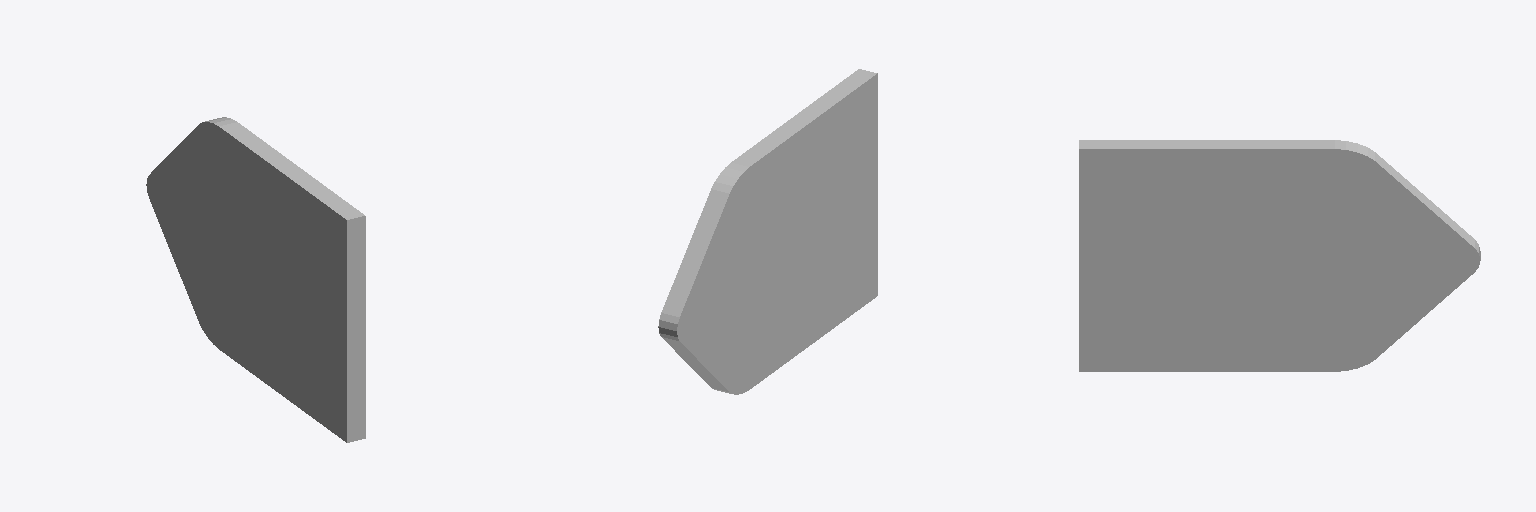
The model's file is Red flag.obj.
3 views of the same model, side by side, from view 1: azimuth 30°, elevation 25°; view 2: azimuth 150°, elevation 25°; view 3: azimuth 270°, elevation 25° (orthographic).
Parts seen in each view (by area): view 1: Куб.001; view 2: Куб.001; view 3: Куб.001.
Part boxes in pixels (left/top/right/bottom): Куб.001: left=146, top=117, right=365, bottom=442; Куб.001: left=658, top=69, right=877, bottom=394; Куб.001: left=1079, top=140, right=1480, bottom=371.
Bounding box in the file's own units: 0.0173 × 0.1977 × 0.3223.